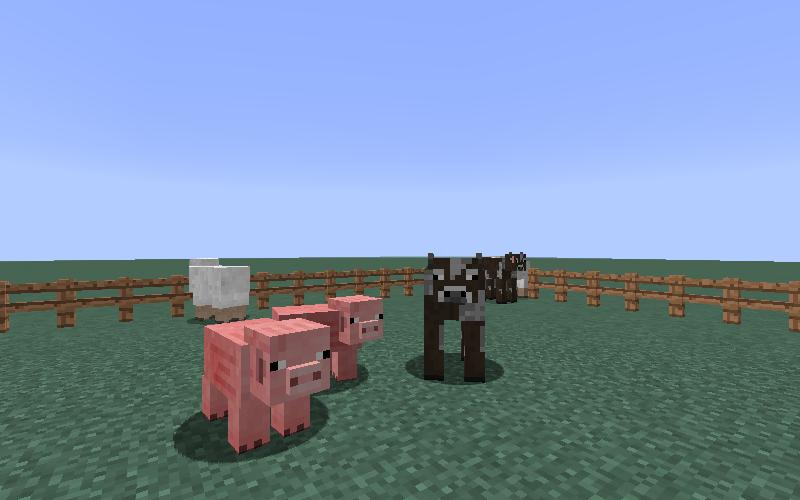cow: (418, 250, 491, 389)
pig: (193, 314, 335, 458), (329, 294, 384, 382)
sheep: (184, 257, 250, 322)
